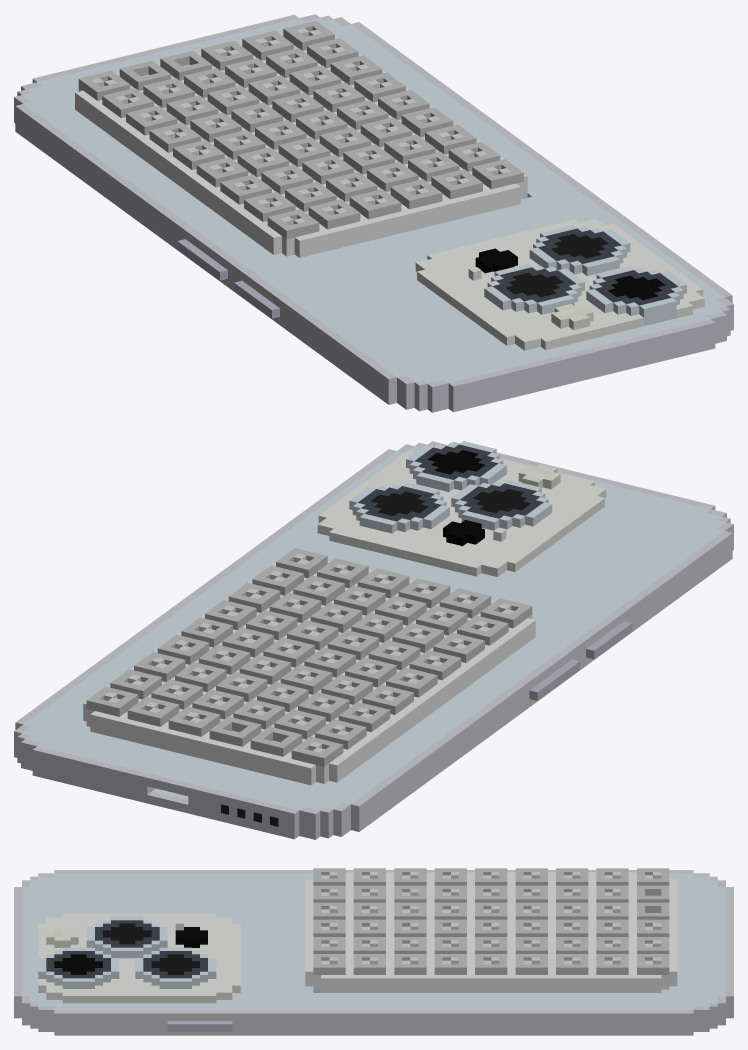
The model's file is iphone.glb.
3 views of the same model, one above another, from view 1: azimuth 30°, elevation 25°; view 2: azimuth 150°, elevation 25°; view 3: azimuth 270°, elevation 25° (orthographic). The views are drawn at different scales.
Parts seen in each view (by area): view 1: model; view 2: model; view 3: model.
Boxes of the visible parts, bbox=[...] form: model: bbox=[14, 14, 733, 412]; model: bbox=[14, 441, 733, 839]; model: bbox=[14, 868, 733, 1035].
Size of the model in its own units: 4.4 by 0.6 by 8.9.
